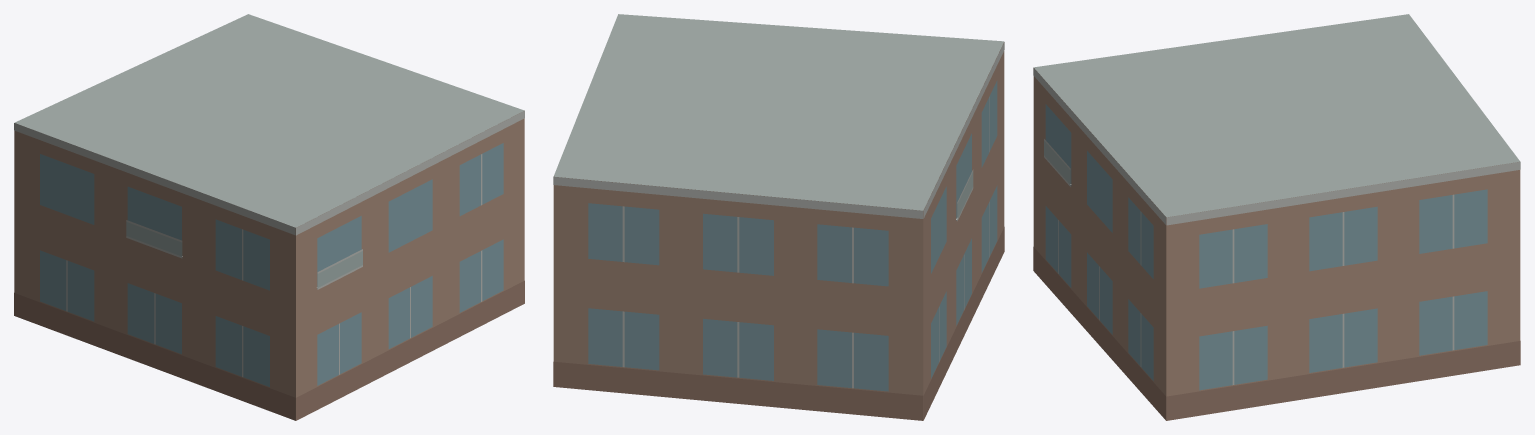
File: survey-upis-32926412.glb
3 views of the same model, side by side, from view 1: azimuth 30°, elevation 25°; view 2: azimuth 150°, elevation 25°; view 3: azimuth 270°, elevation 25° (orthographic). The views are drawn at different scales.
Parts seen in each view (by area): view 1: survey-upis-32926412.tmp; view 2: survey-upis-32926412.tmp; view 3: survey-upis-32926412.tmp.
Part boxes in pixels (x1,y1,x2,y2): survey-upis-32926412.tmp: (14,14,524,420); survey-upis-32926412.tmp: (553,14,1004,420); survey-upis-32926412.tmp: (1033,14,1520,420).
Bounding box in the file's own units: 13.08 × 6.1 × 13.24.
